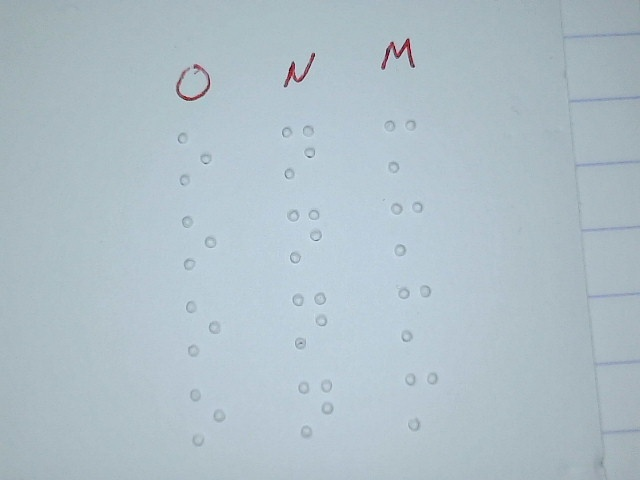M: (402, 370, 440, 431), (382, 116, 421, 174), (387, 200, 426, 258), (397, 283, 436, 341)
N: (296, 377, 336, 440), (280, 122, 319, 180), (285, 206, 324, 264), (291, 291, 330, 349)
O: (175, 129, 214, 187), (179, 214, 218, 272), (183, 299, 222, 357), (189, 387, 228, 445)
